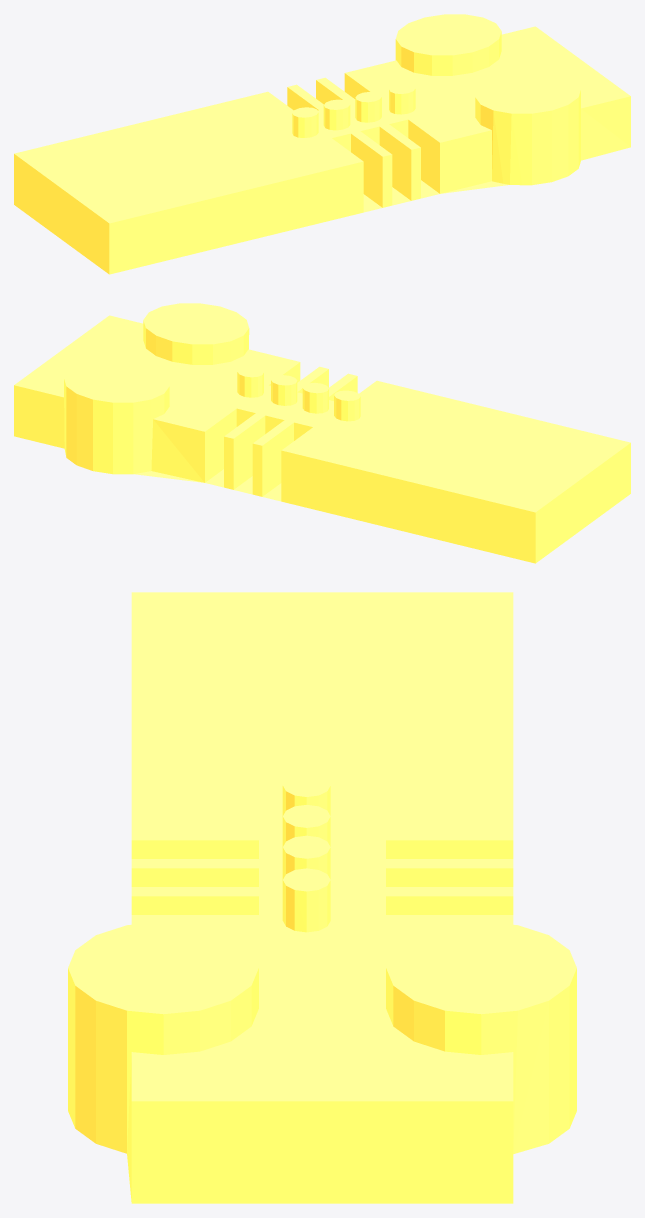
Rendered from switchboard.dae.
The picture shows the model from 3 angles, top to bottom: view 1: azimuth 30°, elevation 25°; view 2: azimuth 150°, elevation 25°; view 3: azimuth 270°, elevation 25°; orthographic projection. The views are drawn at different scales.
Visible parts, largest first — view 1: base.001; view 2: base.001; view 3: base.001.
Part boxes in pixels (bbox=[...]): base.001: bbox=[14, 14, 630, 274]; base.001: bbox=[14, 303, 630, 563]; base.001: bbox=[68, 592, 576, 1203].
Size of the model in its own units: 0.0947 by 0.04 by 0.0124.
